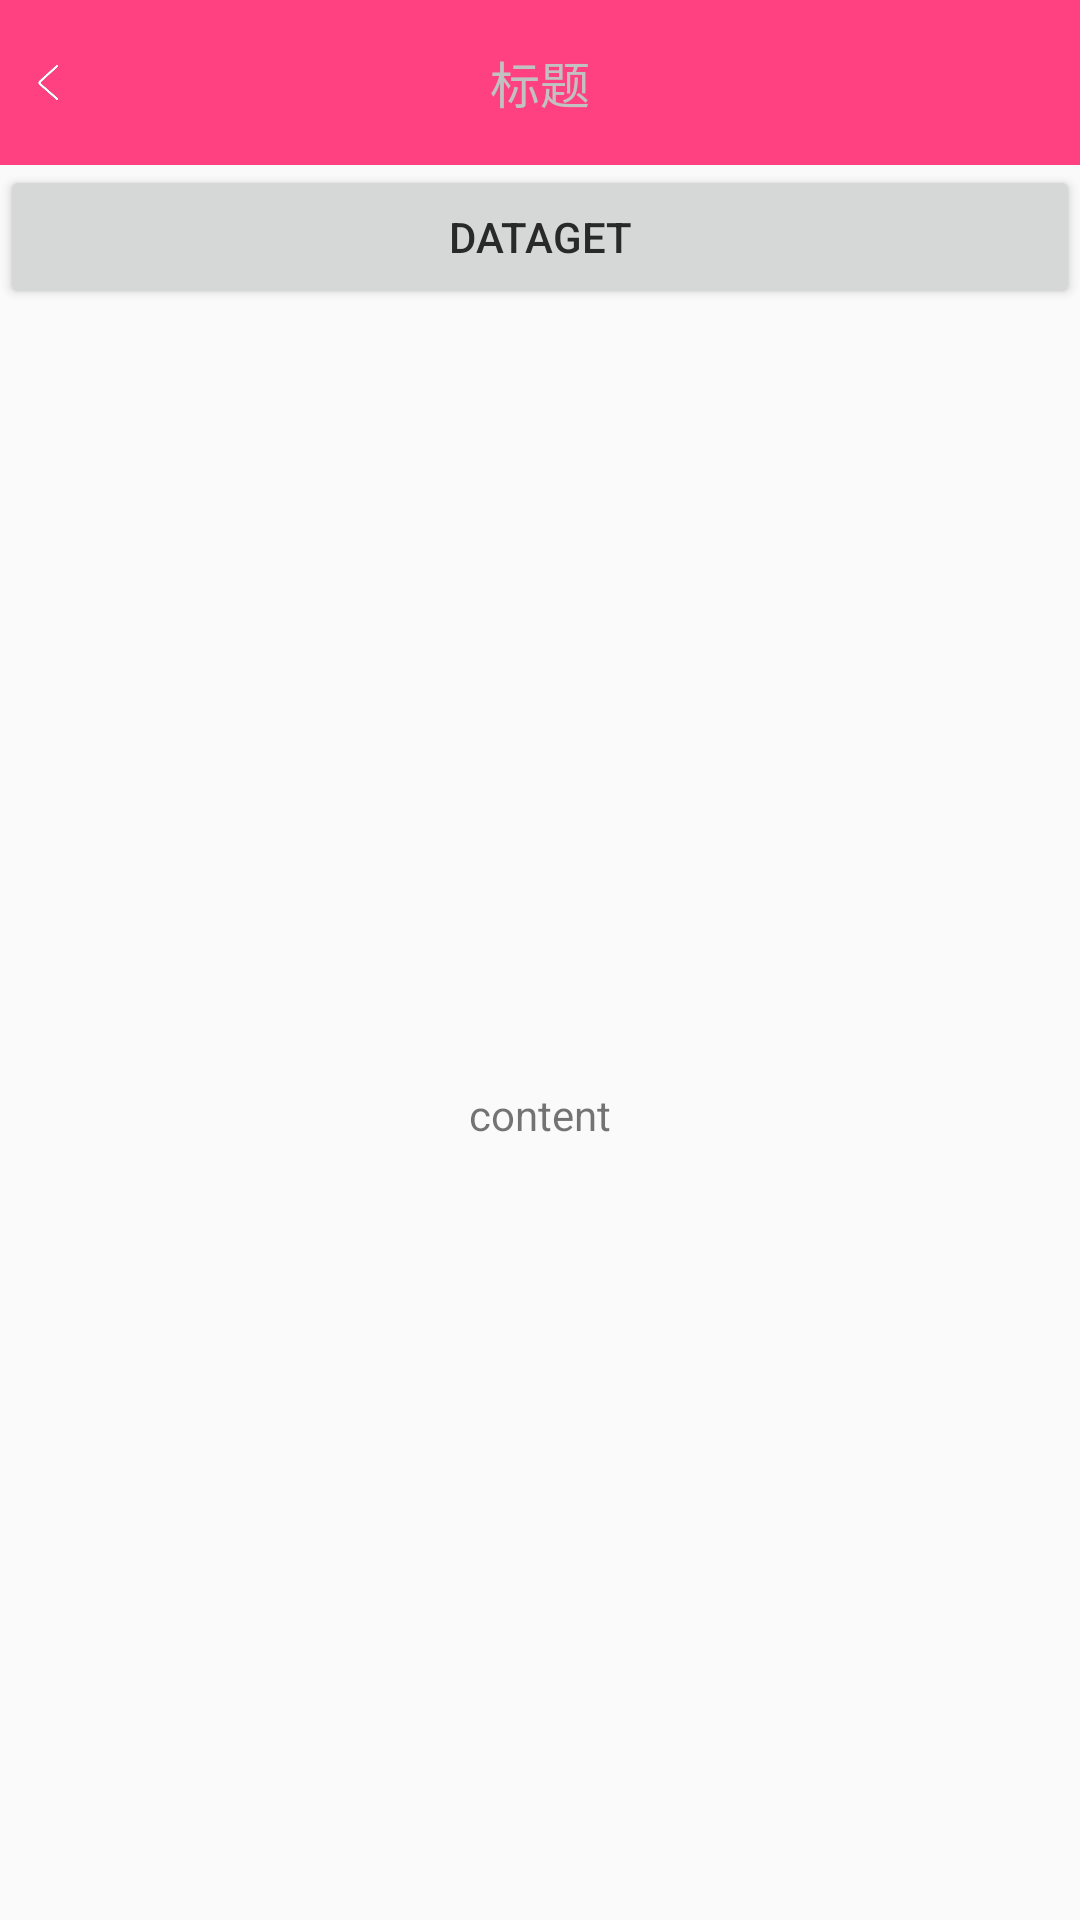

Where icons sit on this 1080*1920 app screen, as [left=x1, top=y1, right=x2, bottom=y2]:
back shop detail: [left=38, top=65, right=58, bottom=100]
